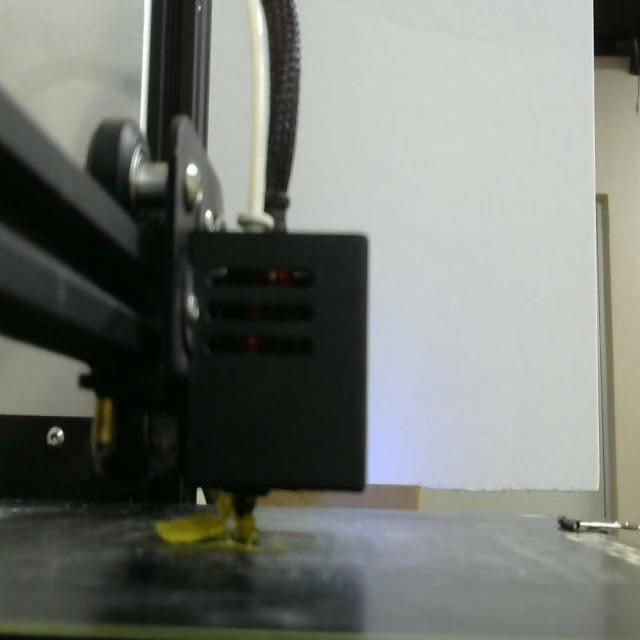spaghetti: (155, 493, 259, 543)
